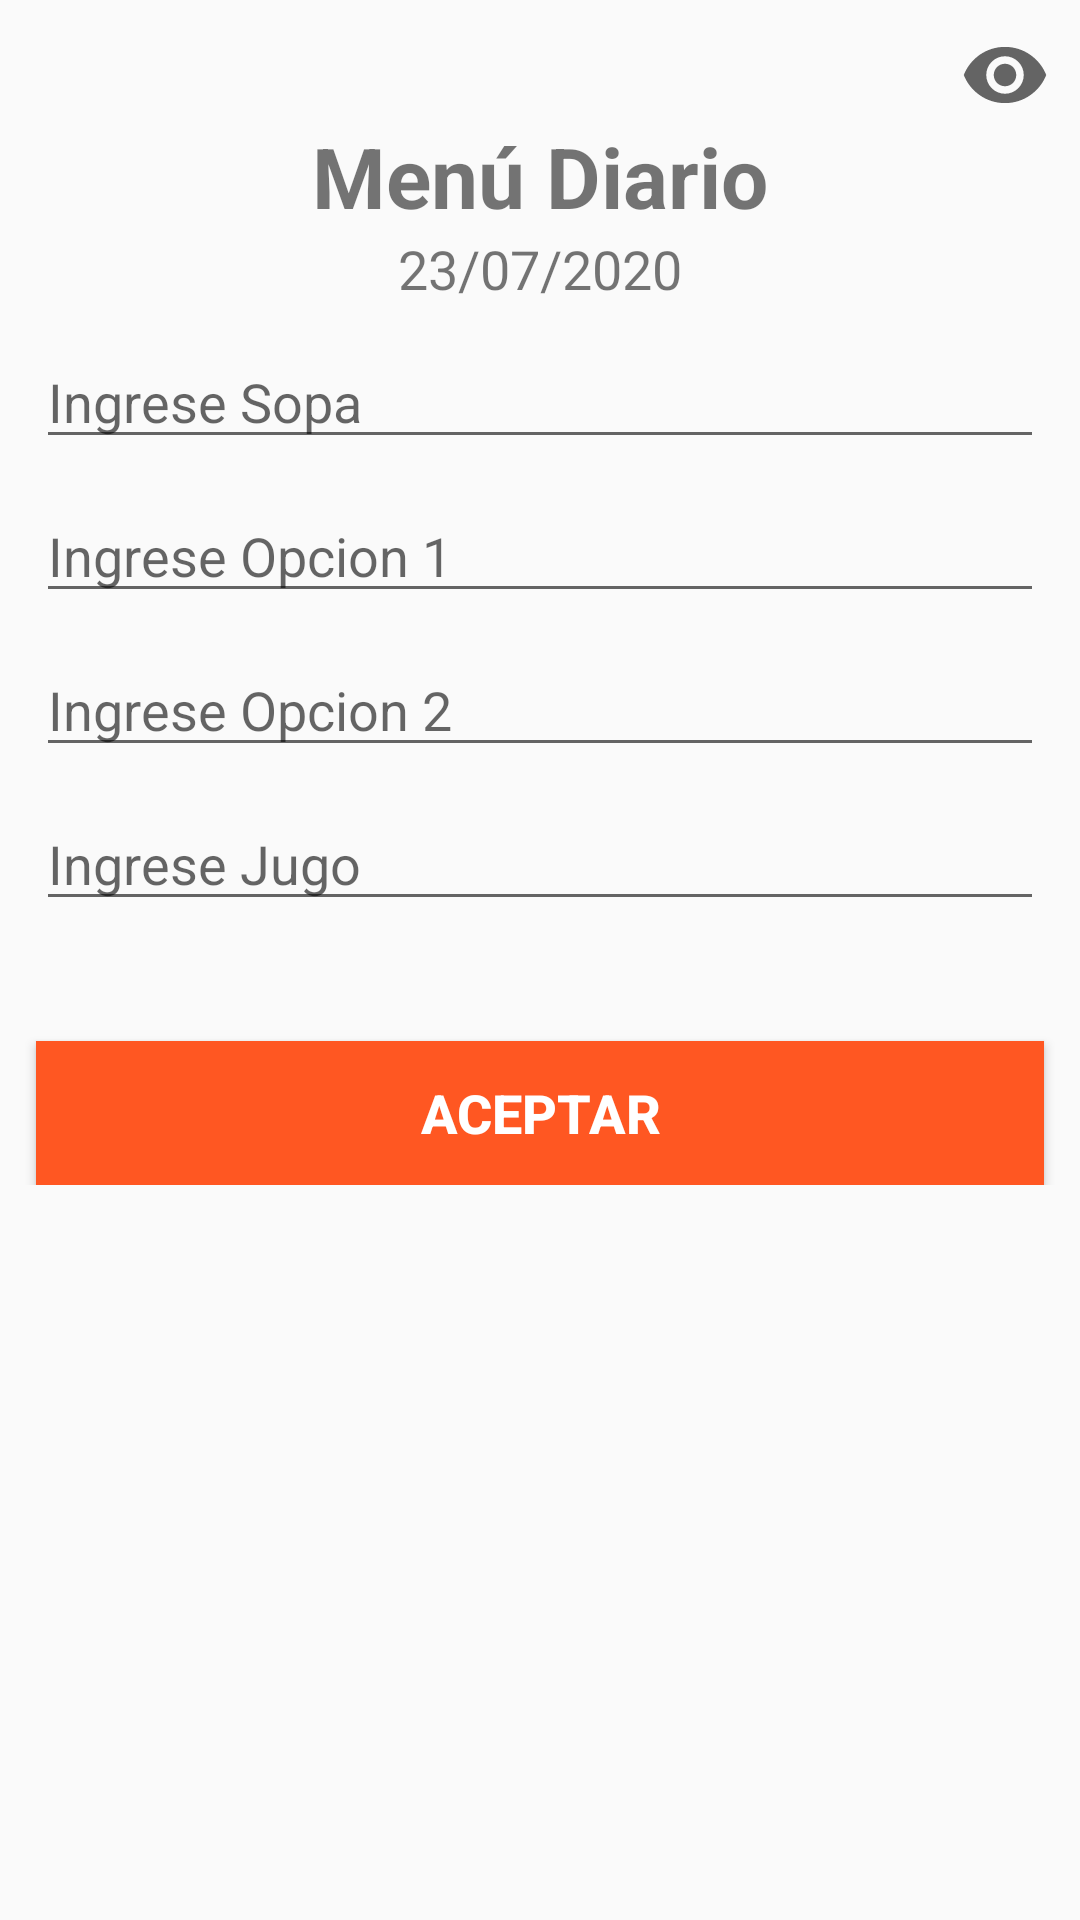

Where icons sit on this 1080x1920 app screen, as (x1, y1, x2, y2):
show: (964, 47, 1046, 103)
